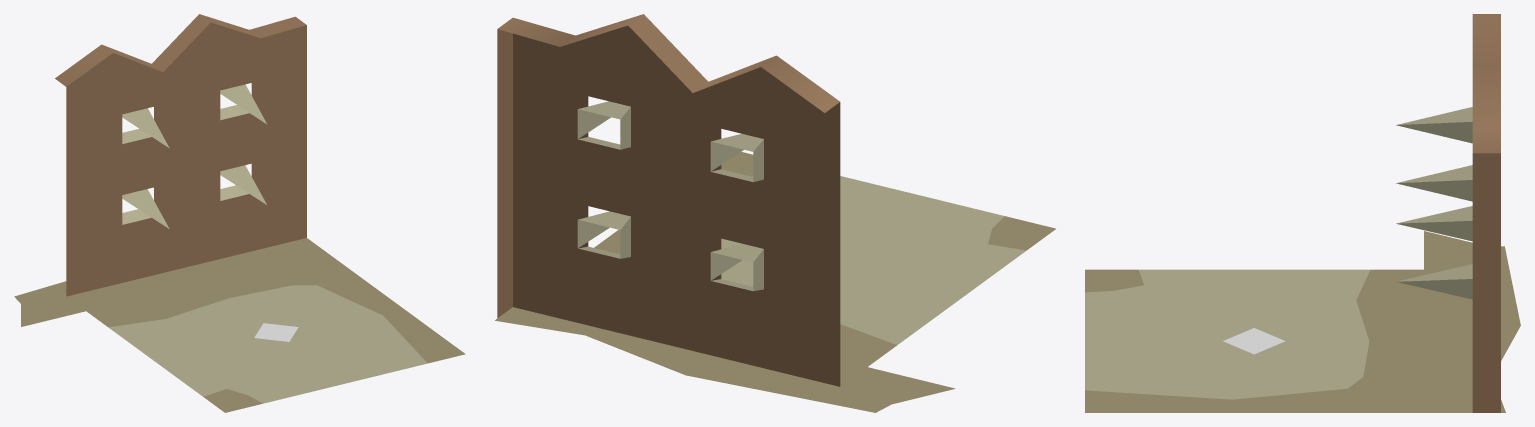
The model's file is Right Death Instant.fbx.
3 views of the same model, side by side, from view 1: azimuth 30°, elevation 25°; view 2: azimuth 150°, elevation 25°; view 3: azimuth 270°, elevation 25° (orthographic). The views are drawn at different scales.
Visible parts, largest first — view 1: polySurface7453; view 2: polySurface7453; view 3: polySurface7453.
Part boxes in pixels (<box>): polySurface7453: <box>14,14,465,412</box>; polySurface7453: <box>495,14,1055,412</box>; polySurface7453: <box>1085,14,1520,412</box>.
Bounding box in the file's own units: 127 × 94.84 × 129.
